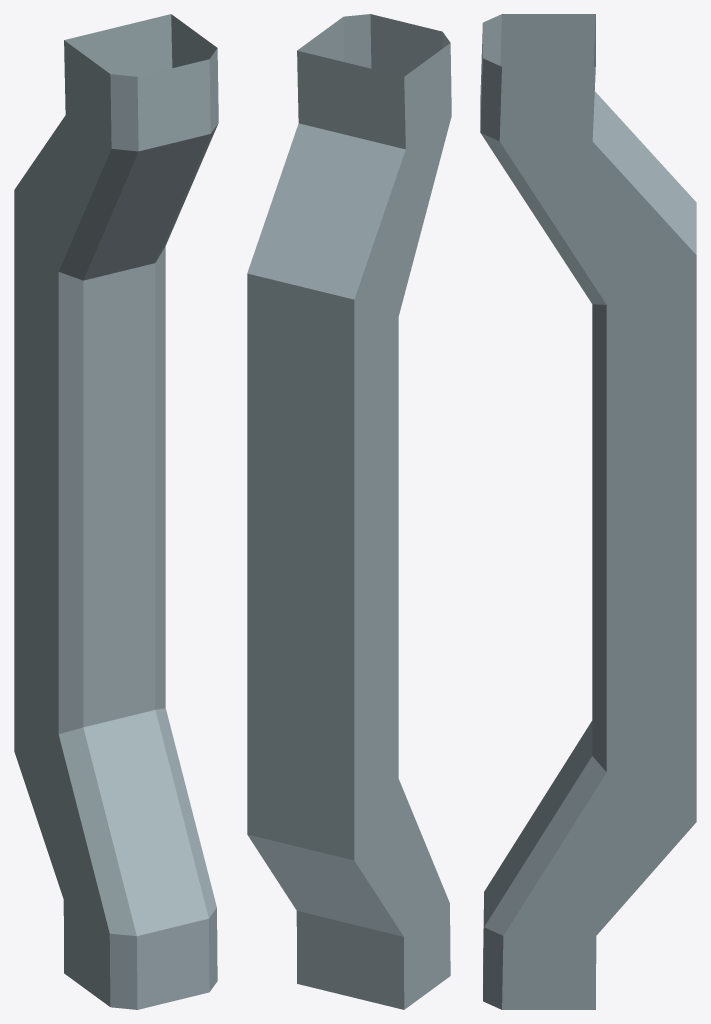
The model's file is Back_Pillar.fbx.
3 renders of one model, left to right at view 1: azimuth 30°, elevation 25°; view 2: azimuth 150°, elevation 25°; view 3: azimuth 270°, elevation 25°, orthographic.
Visible parts, largest first — view 1: Back_Pillar; view 2: Back_Pillar; view 3: Back_Pillar.
Boxes of the visible parts, box(x1,y1,x2,y2) form: Back_Pillar: box(14, 14, 218, 1009); Back_Pillar: box(247, 14, 451, 1009); Back_Pillar: box(480, 14, 696, 1009).
Size of the model in its own units: 120 by 998 by 207.
